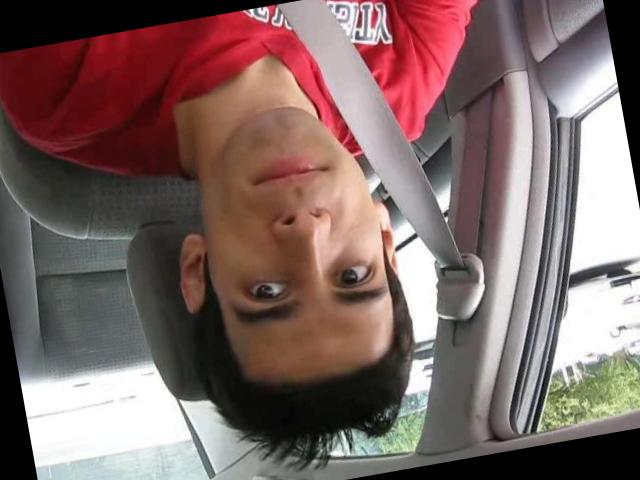eye_open: (235, 264, 298, 310), (324, 251, 384, 297)
face: (186, 88, 408, 356)
